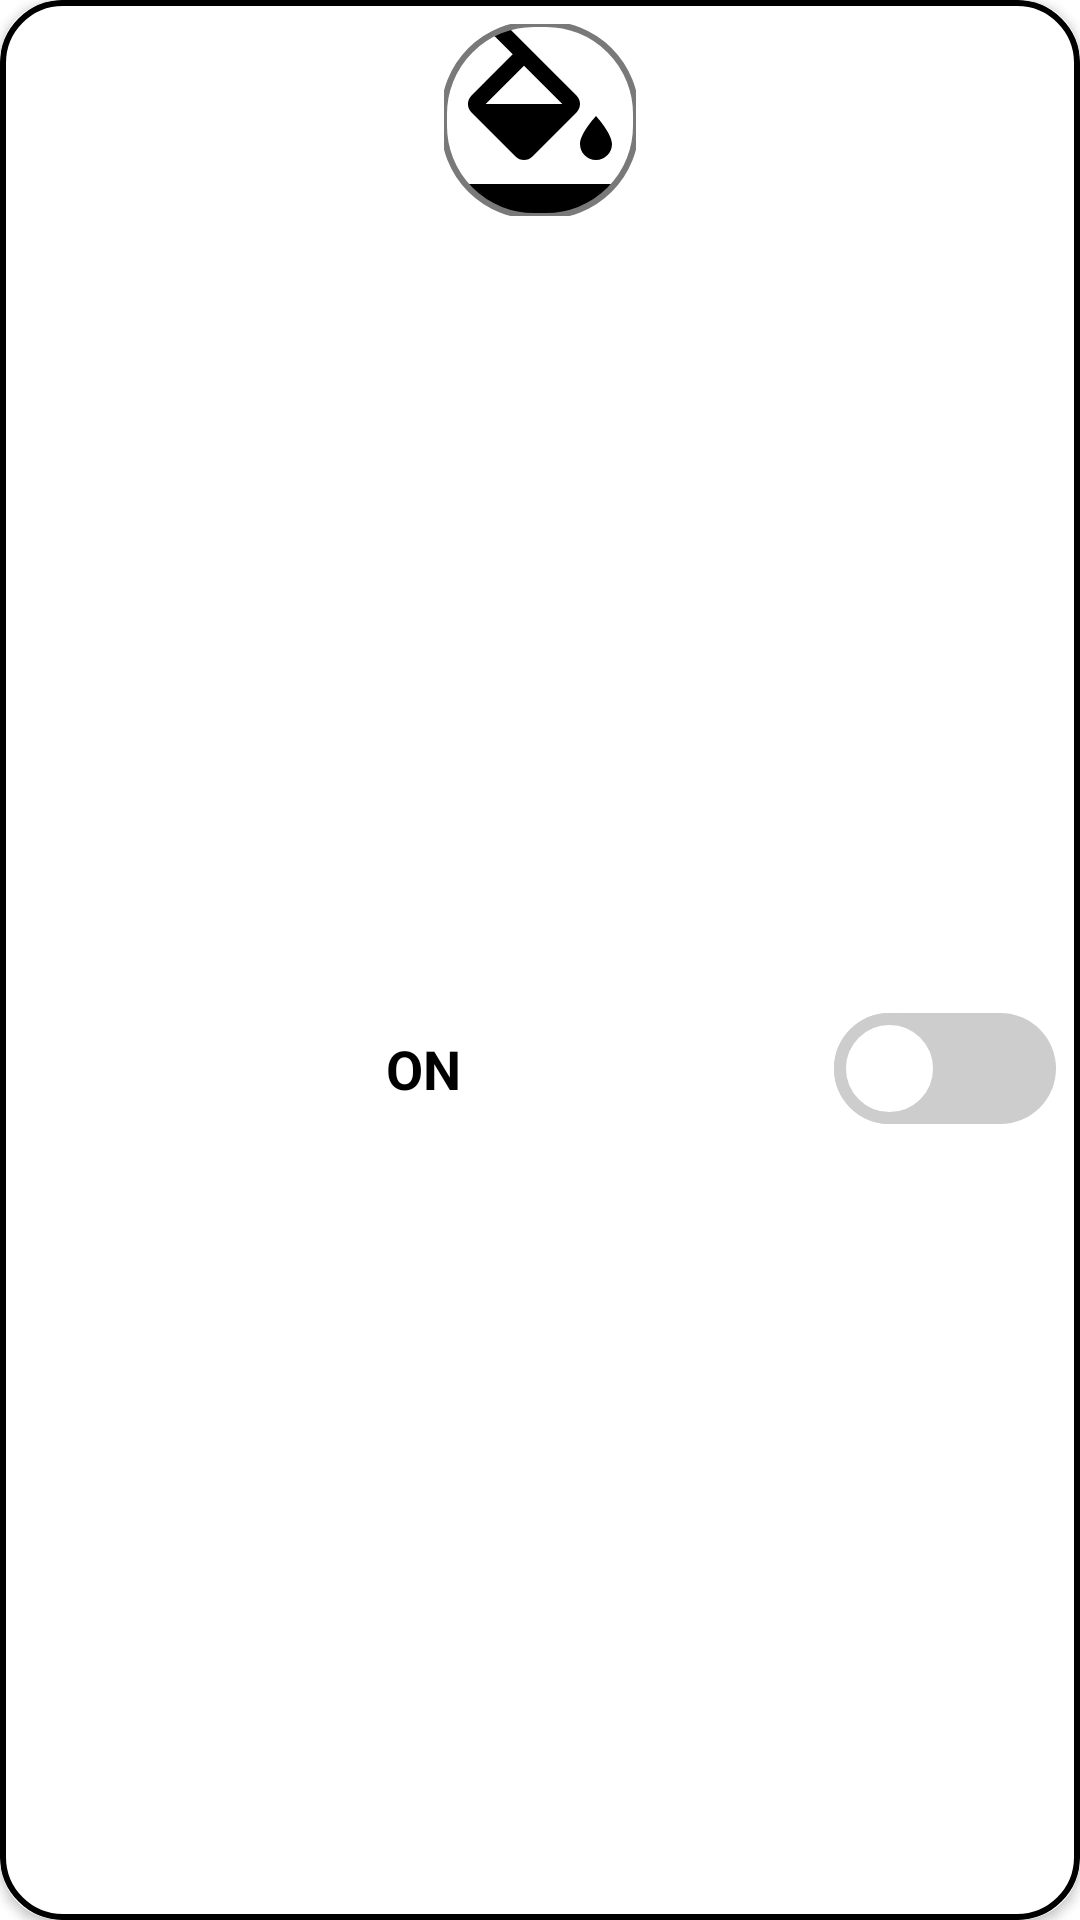

Where icons sit on this 1080x1920 app screen, as (x1, y1, x2, y2):
format: (444, 24, 636, 216)
